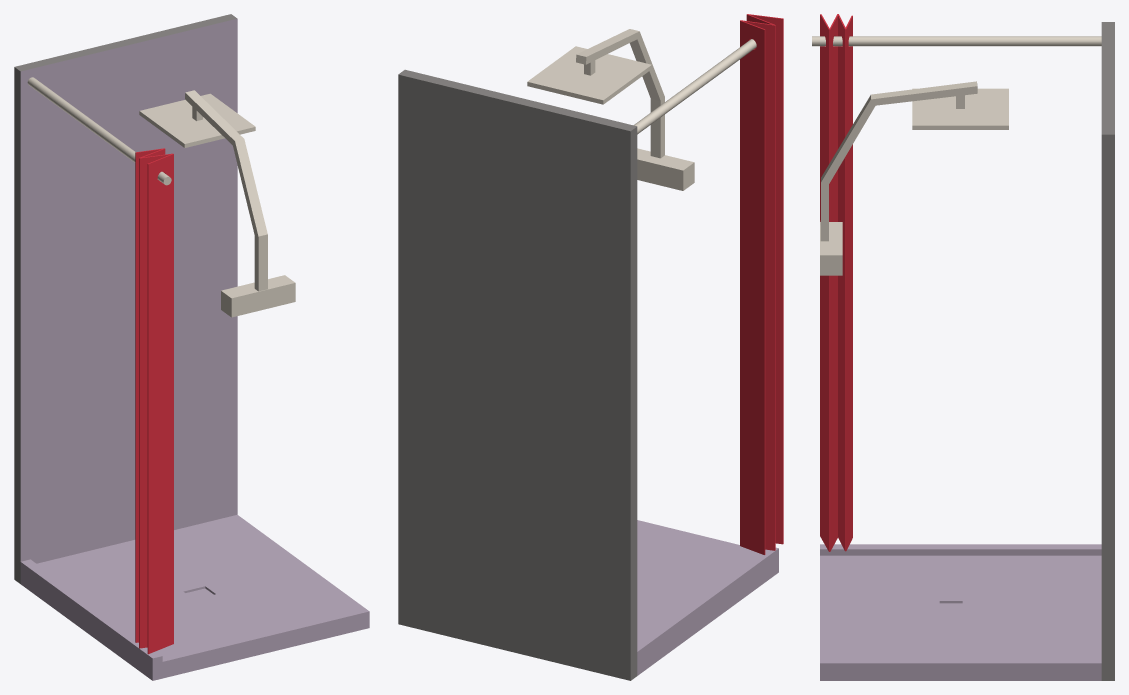
File: Shower_01.fbx
3 renders of one model, left to right at view 1: azimuth 30°, elevation 25°; view 2: azimuth 150°, elevation 25°; view 3: azimuth 270°, elevation 25°, orthographic. The views are drawn at different scales.
Parts seen in each view (by area): view 1: Shower_01; view 2: Shower_01; view 3: Shower_01.
Boxes of the visible parts, <box> form: Shower_01: <box>14,14,369,680</box>; Shower_01: <box>398,14,783,680</box>; Shower_01: <box>812,14,1114,680</box>.
Bounding box in the file's own units: 99.22 × 221 × 110.
